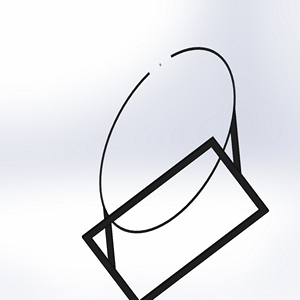circle: (79, 45, 268, 300)
